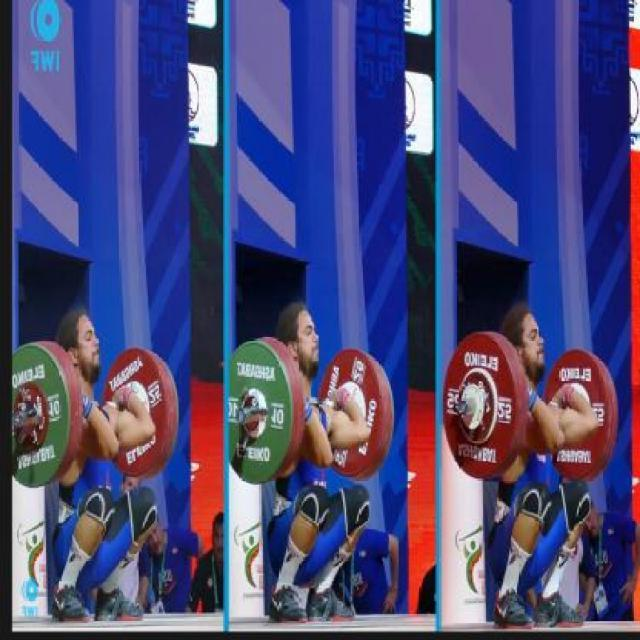Barbell: (236, 402, 249, 432), (458, 394, 470, 422), (12, 412, 22, 430)
